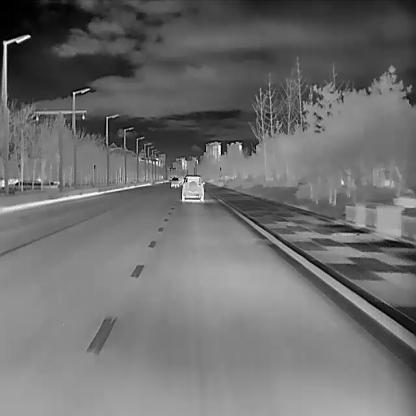car: (181, 174, 204, 201), (170, 176, 179, 188)
